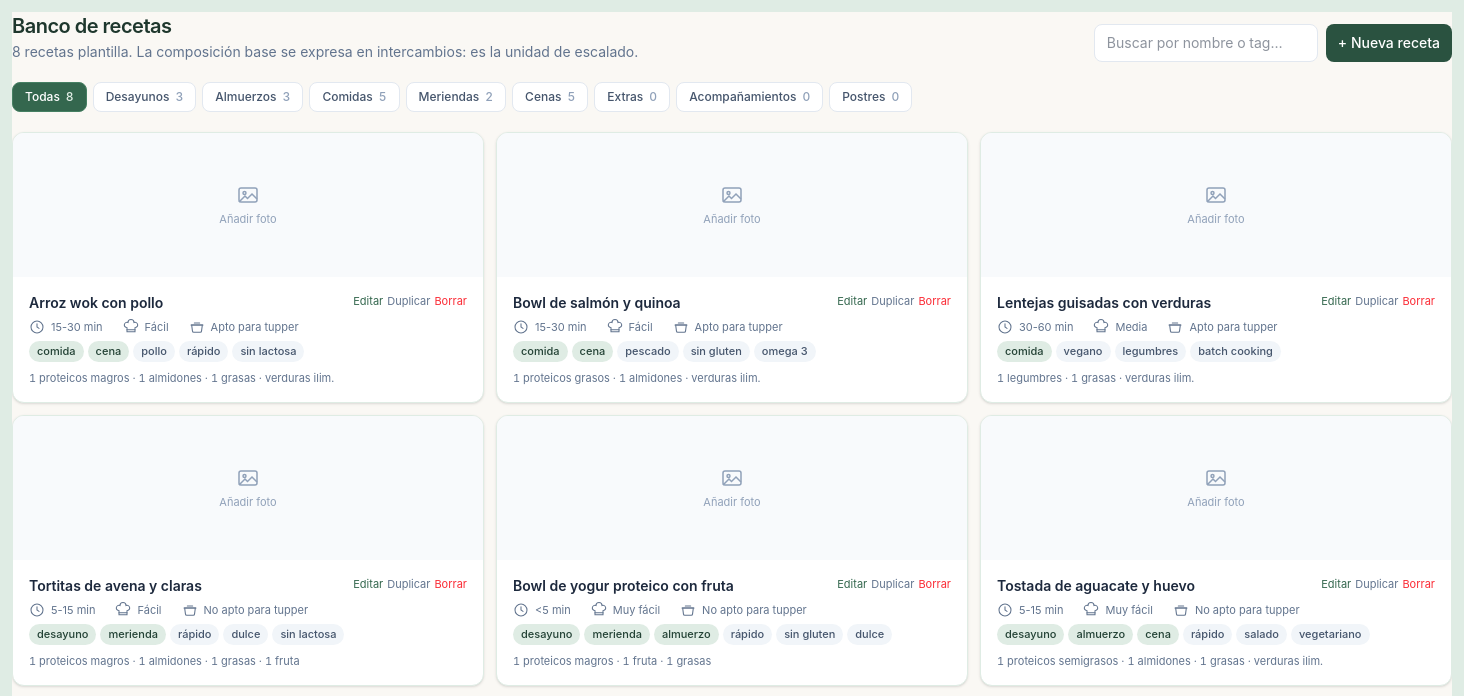
Scenario: Editar una receta sube al formulario › al pulsar Editar se abre el formulario y la página sube hasta él
Check: the text "Editar receta" is not shown
Step 1. Click the button "Editar" in the row of "Arroz wok con pollo" → x=368, y=301, box [353,293,383,310]
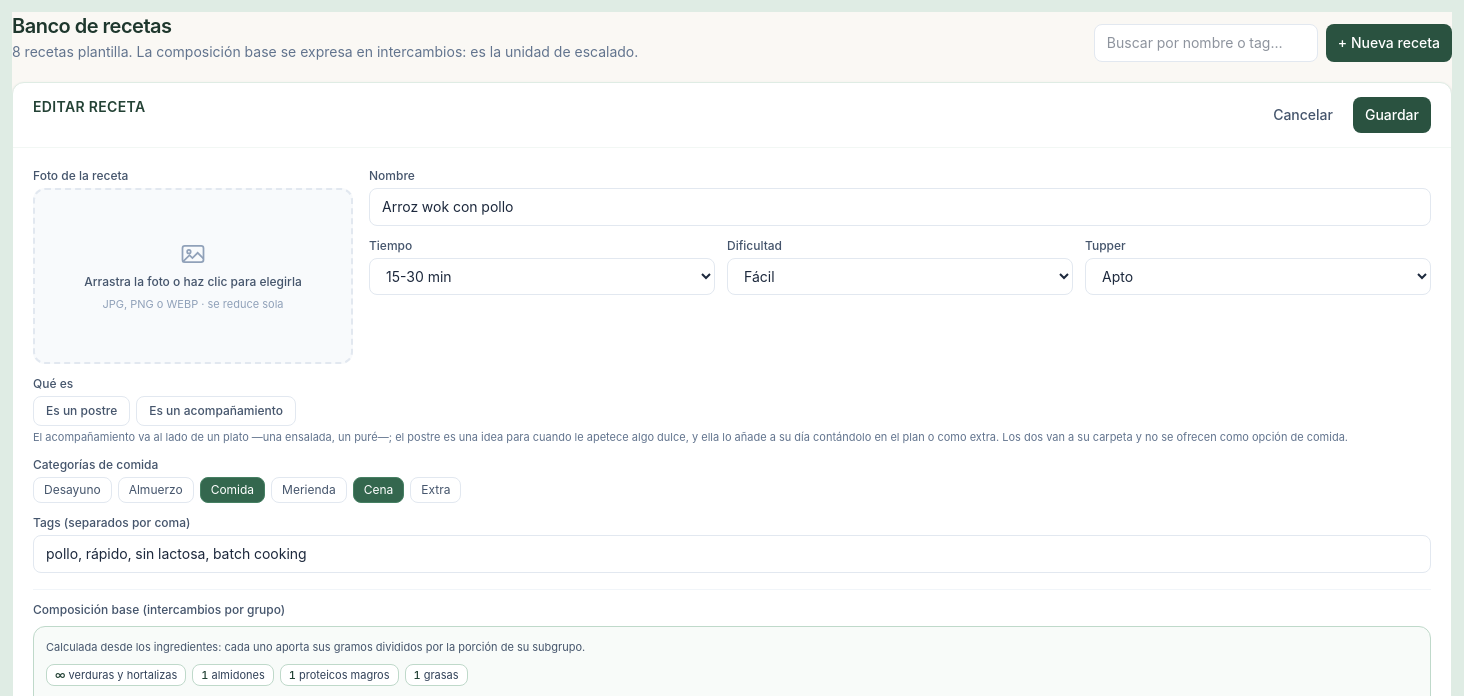
Check: the heading "Editar receta" is shown, box [33,97,146,117]
